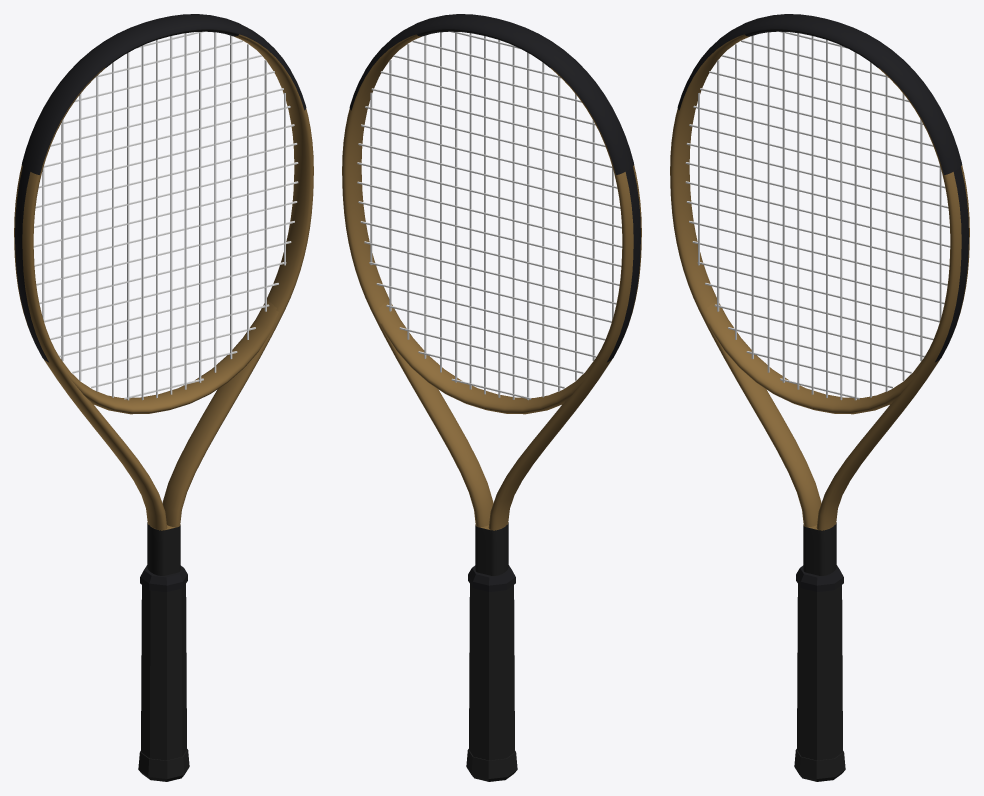
Rendered from prince-warrior-107-275g-2025.glb.
3 views of the same model, side by side, from view 1: azimuth 30°, elevation 25°; view 2: azimuth 150°, elevation 25°; view 3: azimuth 330°, elevation 25° (orthographic).
Parts seen in each view (by area): view 1: frame, strings_mains, strings_crosses, grip, bumper, grommets, butt_cap, collar; view 2: frame, strings_mains, strings_crosses, grip, bumper, grommets, butt_cap, collar; view 3: frame, strings_mains, strings_crosses, grip, bumper, grommets, butt_cap, collar.
Part boxes in pixels (bbox=[...]): frame: bbox=[14, 29, 313, 575]; strings_mains: bbox=[42, 32, 285, 400]; strings_crosses: bbox=[33, 31, 298, 399]; grip: bbox=[141, 584, 186, 760]; bumper: bbox=[21, 14, 306, 174]; grommets: bbox=[15, 167, 48, 362]; butt_cap: bbox=[138, 749, 189, 781]; collar: bbox=[140, 565, 187, 591]; frame: bbox=[342, 29, 641, 575]; strings_mains: bbox=[370, 32, 613, 400]; strings_crosses: bbox=[357, 31, 622, 399]; grip: bbox=[469, 584, 514, 760]; bumper: bbox=[349, 14, 634, 174]; grommets: bbox=[607, 167, 640, 362]; butt_cap: bbox=[466, 749, 517, 781]; collar: bbox=[468, 565, 515, 591]; frame: bbox=[670, 29, 969, 575]; strings_mains: bbox=[698, 32, 941, 400]; strings_crosses: bbox=[685, 31, 950, 399]; grip: bbox=[797, 584, 842, 760]; bumper: bbox=[677, 14, 962, 174]; grommets: bbox=[935, 167, 968, 362]; butt_cap: bbox=[794, 749, 845, 781]; collar: bbox=[796, 565, 843, 591].
Bounding box in the file's own units: 0.2791 × 0.6861 × 0.0396.
